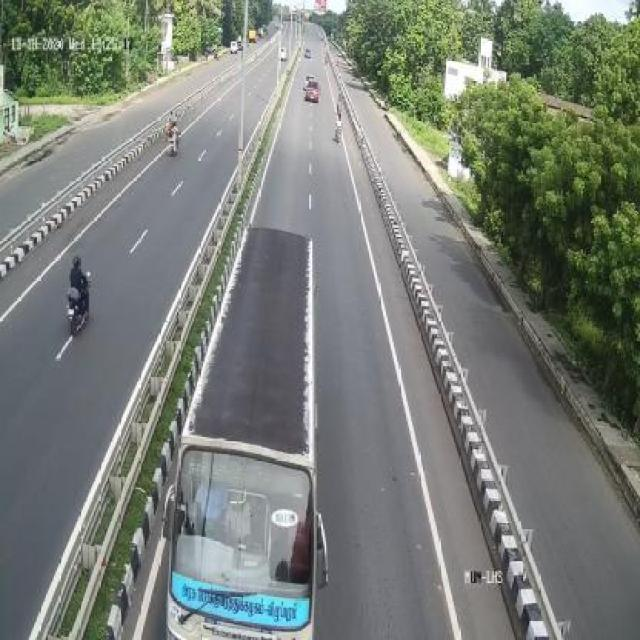car: (300, 77, 323, 105)
